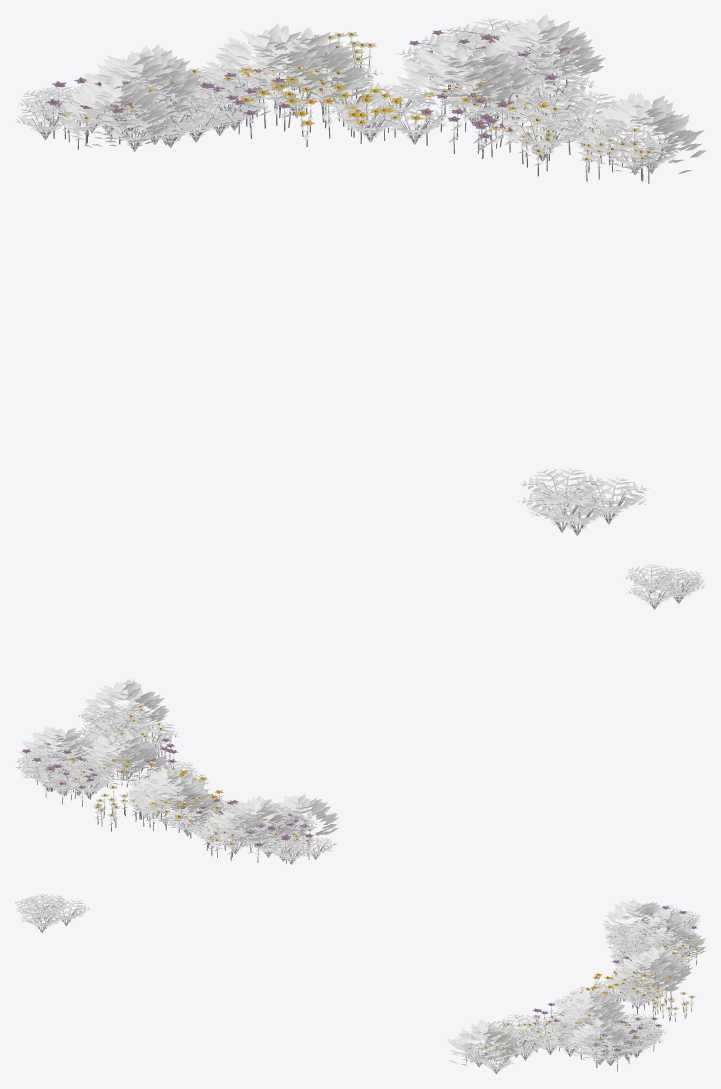
The model's file is SM_DF_Nature_1_1_Flora.fbx.
3 views of the same model, one above another, from view 1: azimuth 30°, elevation 25°; view 2: azimuth 150°, elevation 25°; view 3: azimuth 270°, elevation 25° (orthographic). The views are drawn at different scales.
Parts seen in each view (by area): view 1: SM_DF_Nature_1_1_Flora; view 2: SM_DF_Nature_1_1_Flora; view 3: SM_DF_Nature_1_1_Flora.
Part boxes in pixels (box(x1,y1,x2,y2)): SM_DF_Nature_1_1_Flora: box(16, 14, 706, 535); SM_DF_Nature_1_1_Flora: box(16, 564, 706, 864); SM_DF_Nature_1_1_Flora: box(15, 893, 705, 1074).
Size of the model in its own units: 1022 by 1913 by 162.
